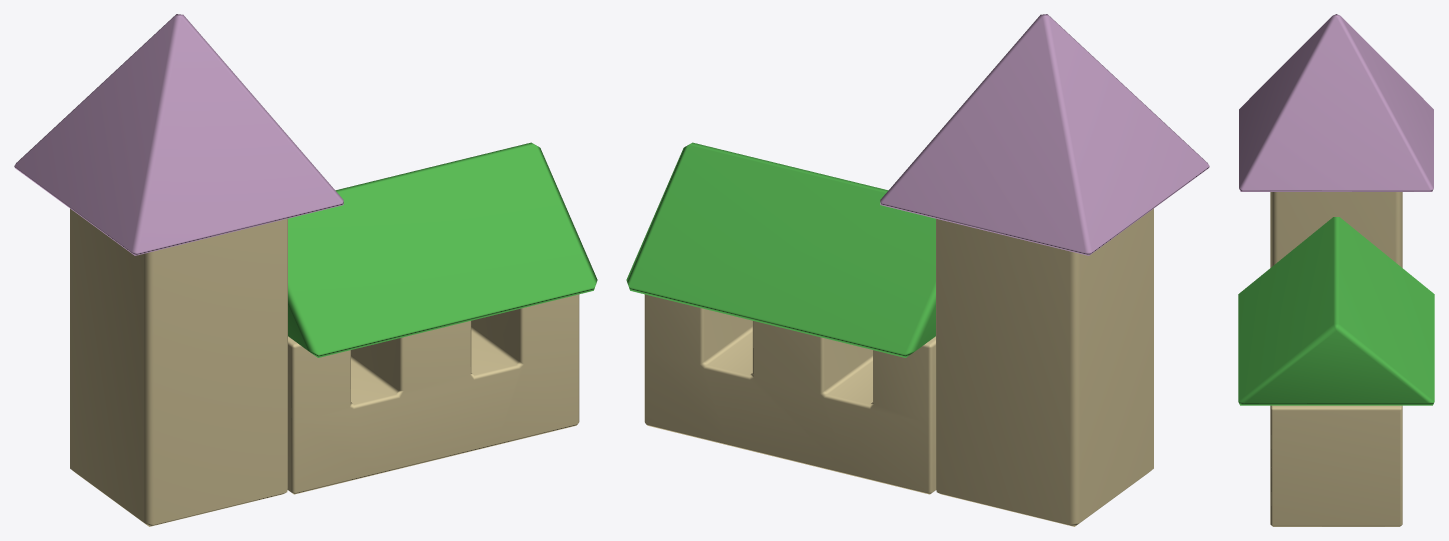
The model's file is building A.fbx.
3 views of the same model, side by side, from view 1: azimuth 30°, elevation 25°; view 2: azimuth 150°, elevation 25°; view 3: azimuth 270°, elevation 25° (orthographic). The views are drawn at different scales.
Visible parts, largest first — view 1: pCube27, pCube24, pPyramid1, BuildingA; view 2: pCube27, pCube24, pPyramid1, BuildingA; view 3: pCube24, pPyramid1, BuildingA, pCube27.
Boxes of the visible parts, box(x1,y1,x2,y2) form: pCube27: box(70, 208, 287, 526); pCube24: box(288, 142, 597, 357); pPyramid1: box(14, 14, 343, 255); BuildingA: box(287, 294, 579, 494); pCube27: box(936, 208, 1153, 526); pCube24: box(626, 142, 935, 357); pPyramid1: box(880, 14, 1209, 255); BuildingA: box(644, 294, 936, 494); pCube24: box(1238, 217, 1434, 405); pPyramid1: box(1239, 14, 1433, 191); BuildingA: box(1270, 405, 1402, 526); pCube27: box(1270, 192, 1402, 267).
Bounding box in the file's own units: 68.05 × 65.11 × 31.15.
